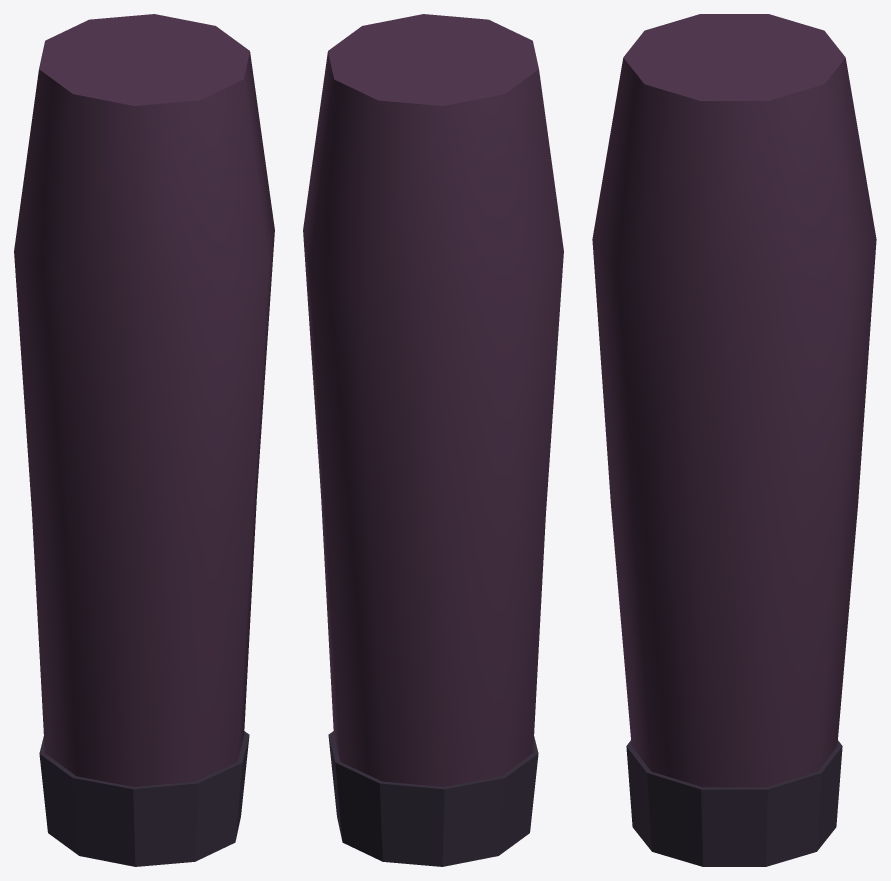
The model's file is antebrazo_izq.obj.
The picture shows the model from 3 angles, left to right: view 1: azimuth 30°, elevation 25°; view 2: azimuth 150°, elevation 25°; view 3: azimuth 270°, elevation 25°; orthographic projection.
Visible parts, largest first — view 1: antebrazo_izq; view 2: antebrazo_izq; view 3: antebrazo_izq.
Boxes of the visible parts, box(x1,y1,x2,y2) form: antebrazo_izq: box(14, 14, 274, 866); antebrazo_izq: box(303, 14, 563, 866); antebrazo_izq: box(592, 14, 876, 866).
Size of the model in its own units: 0.0818 by 0.276 by 0.092.
